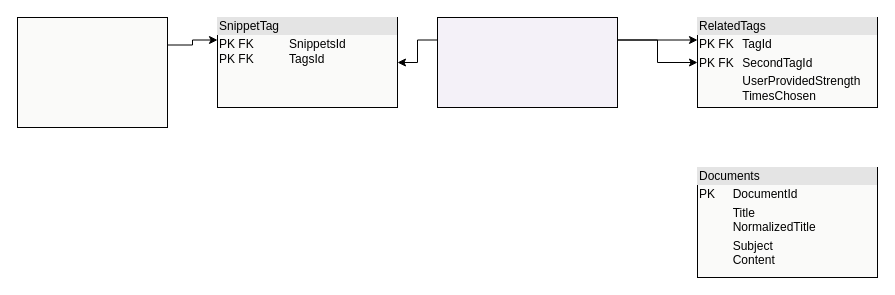
Image size: 895x295. Some labels were removed from this diagram. Here are the shapes that lost their labels. From the top down, the centre of each, then its label:
(x=92, y=72): Snippets PK SnippetId Content Subject Title NormalizedTitle
(x=527, y=62): Tags PK TagId Name NormalizedName Description
